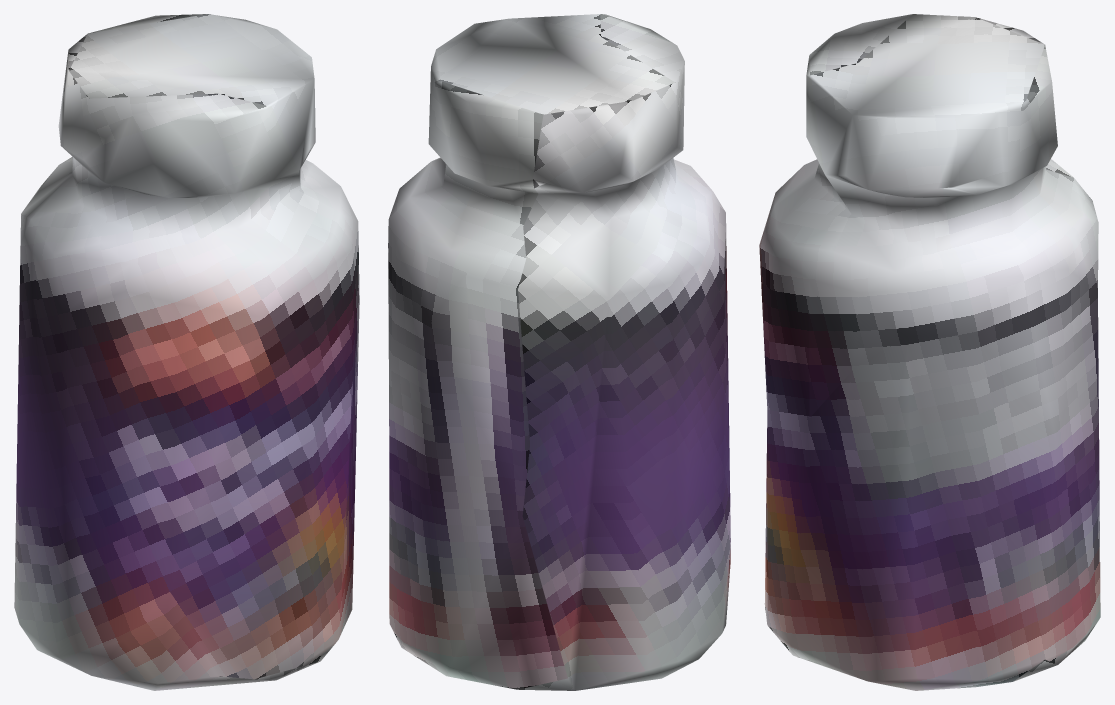
Rendered from Blackcurrant_Lutein-low.glb.
3 views of the same model, side by side, from view 1: azimuth 30°, elevation 25°; view 2: azimuth 150°, elevation 25°; view 3: azimuth 270°, elevation 25° (orthographic).
Parts seen in each view (by area): view 1: Blackcurrant_Lutein; view 2: Blackcurrant_Lutein; view 3: Blackcurrant_Lutein.
Part boxes in pixels (x1=…): Blackcurrant_Lutein: x1=14, y1=14, x2=359, y2=690; Blackcurrant_Lutein: x1=388, y1=14, x2=730, y2=690; Blackcurrant_Lutein: x1=759, y1=14, x2=1100, y2=690.
Size of the model in its own units: 0.0531 by 0.0972 by 0.0533.
1 material, 1 textured.
